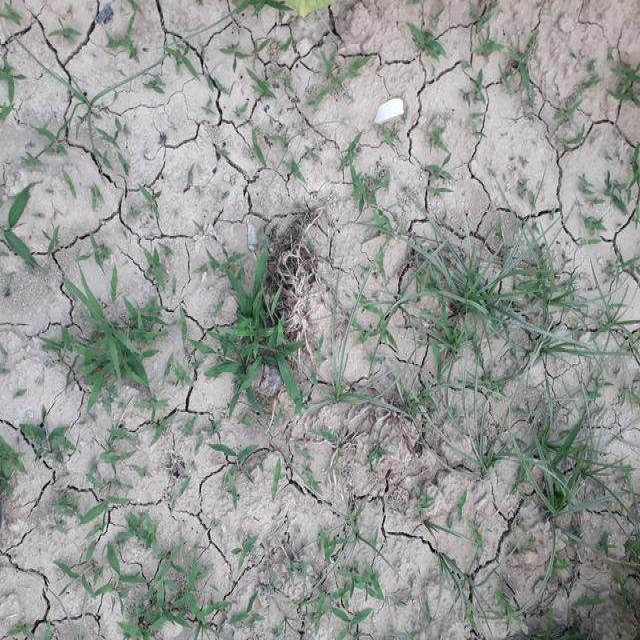weed: (384, 220, 586, 370), (80, 501, 197, 640), (56, 273, 166, 405), (218, 267, 301, 403), (499, 430, 613, 507), (10, 178, 36, 272), (217, 445, 265, 488), (406, 18, 446, 67), (613, 58, 640, 120)
